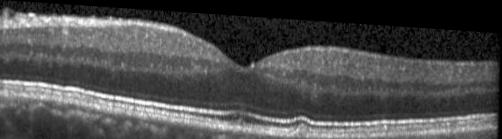retinal_drusen: (288, 118, 310, 135)
